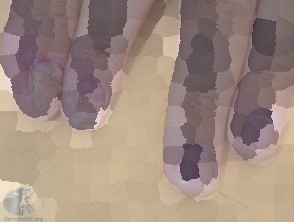Nail_psoriasis: (45, 53, 133, 144), (162, 129, 236, 206), (12, 39, 71, 127), (232, 92, 294, 164)
